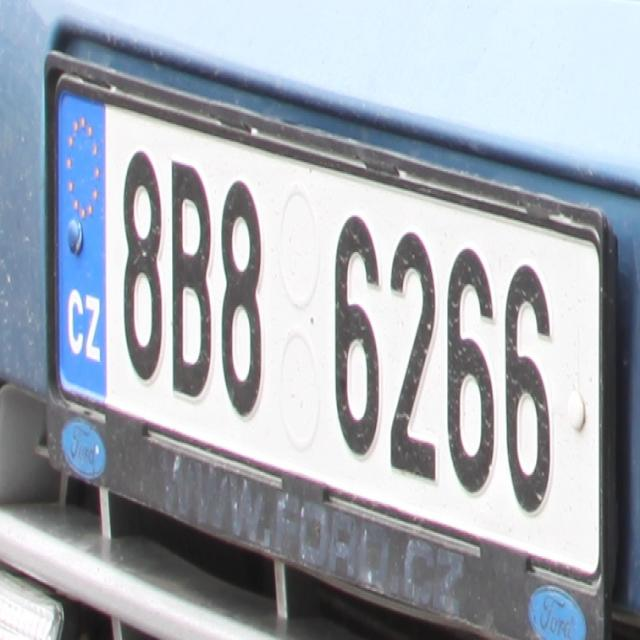2: (388, 229, 438, 481)
6: (501, 263, 555, 510), (445, 247, 496, 498), (333, 214, 381, 458)
8: (220, 176, 263, 420), (119, 145, 162, 383)
B: (167, 157, 213, 405)
